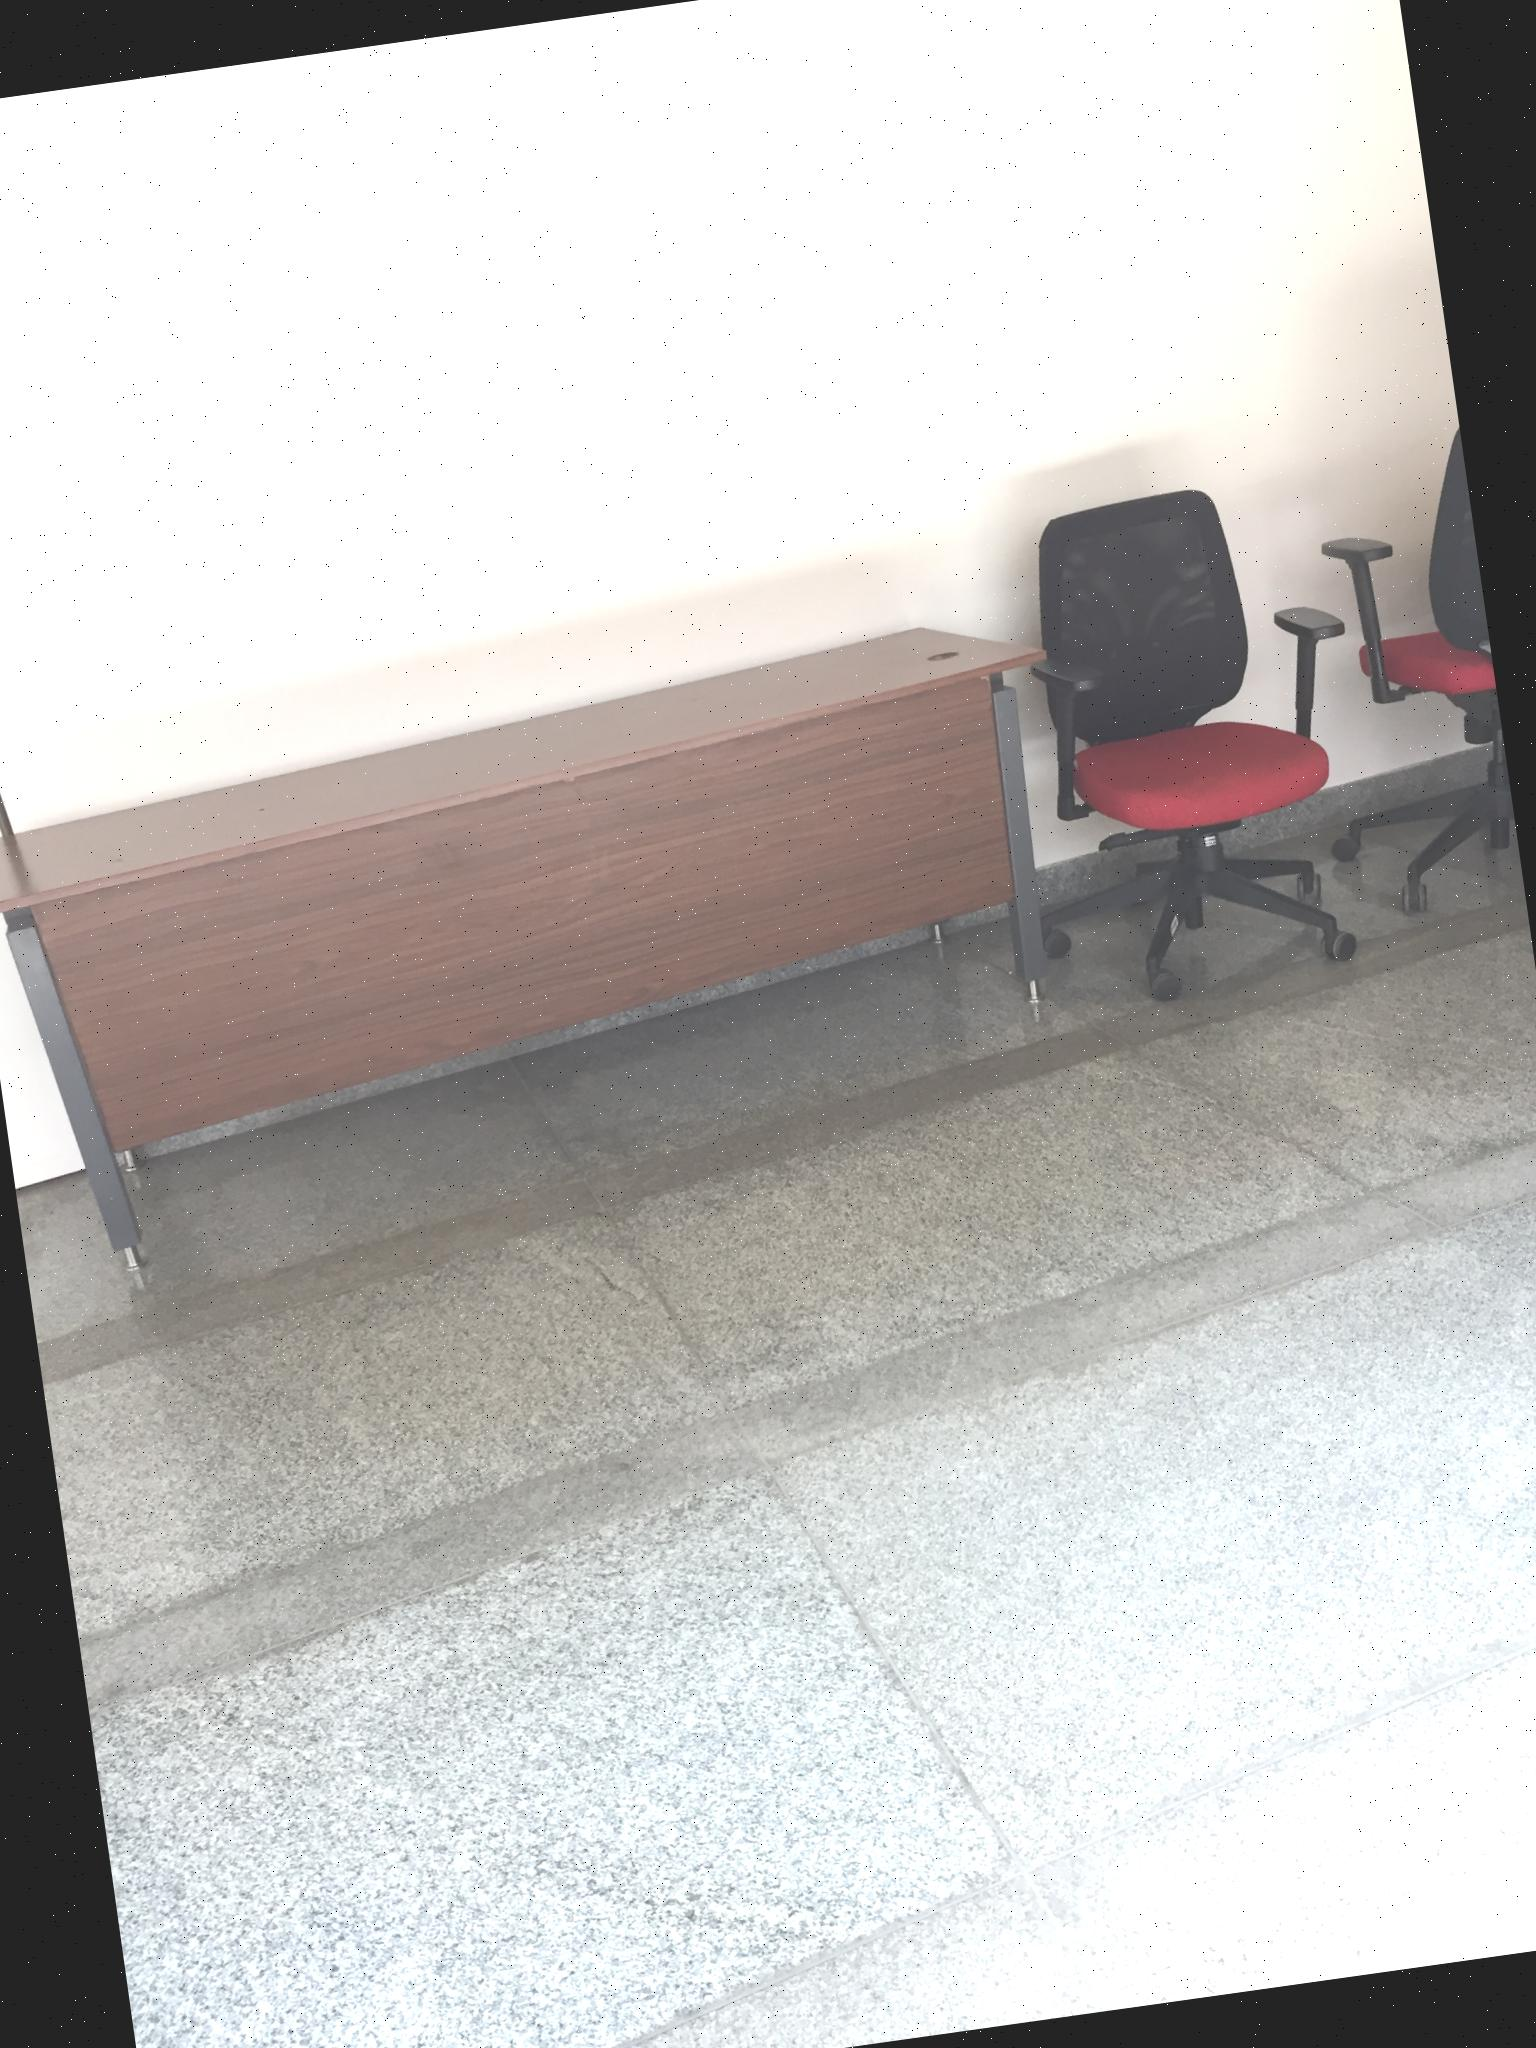chair: (999, 468, 1394, 1014), (1275, 423, 1525, 924)
